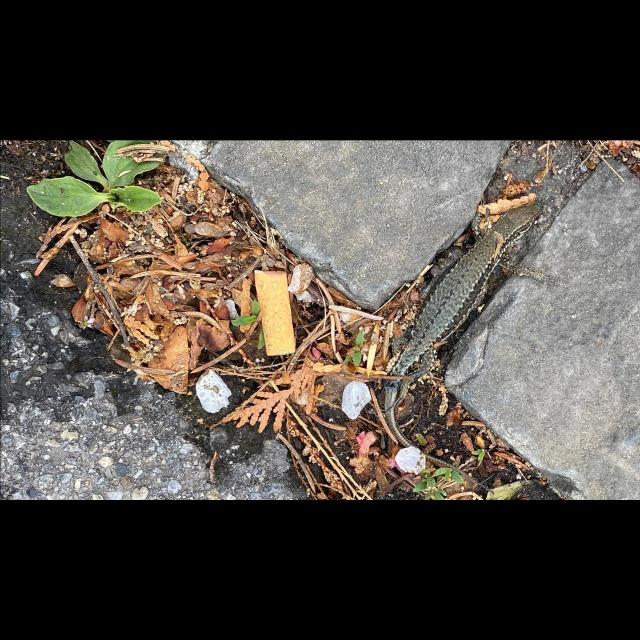cigarette: (252, 268, 296, 356)
